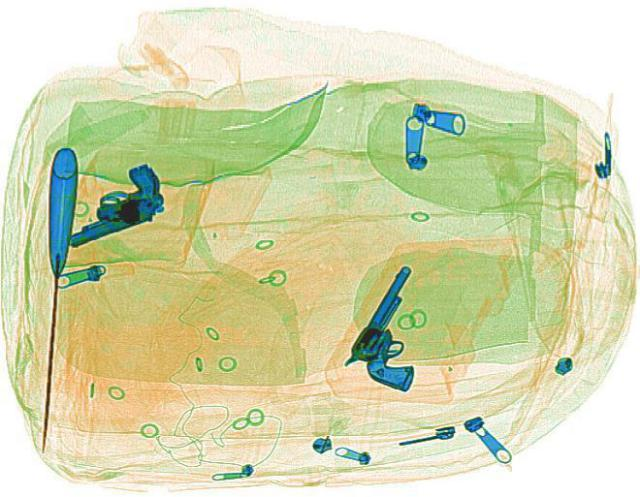Gun: (334, 262, 471, 391), (36, 160, 180, 247)
Knife: (27, 145, 79, 450)
